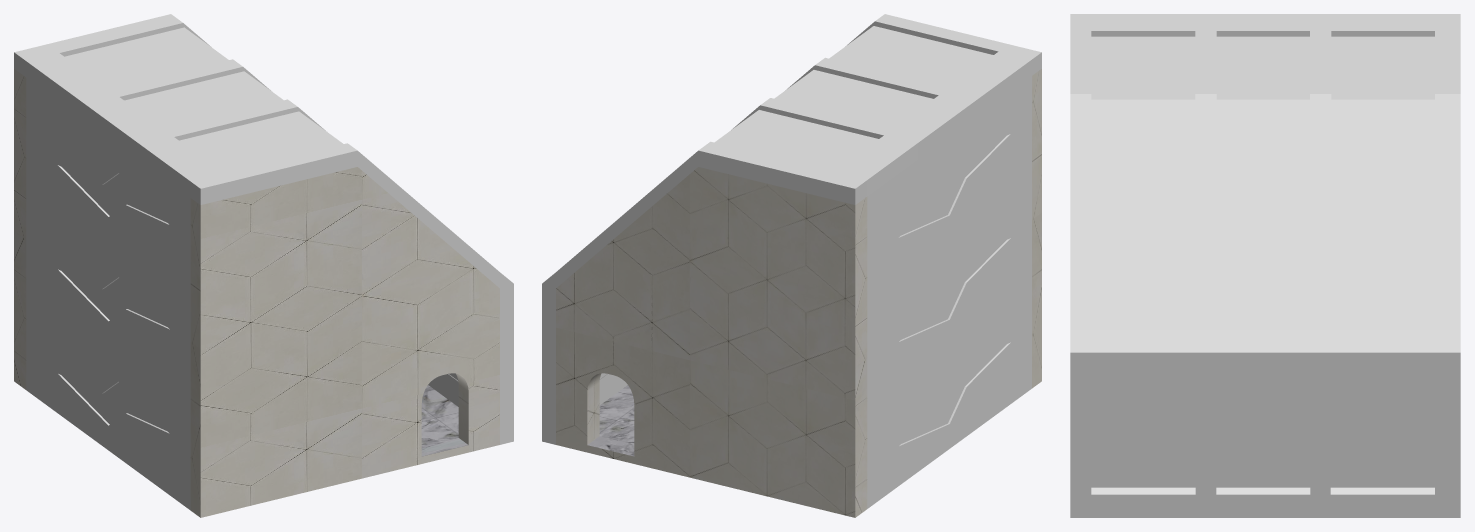
The model's file is Building 4.fbx.
3 renders of one model, left to right at view 1: azimuth 30°, elevation 25°; view 2: azimuth 150°, elevation 25°; view 3: azimuth 270°, elevation 25°, orthographic. The views are drawn at different scales.
Visible parts, largest first — view 1: Cube.009, Cube.007, Cube.006, Cube.020, Cube.022, Cube.012, Cube.018, Cube.005; view 2: Cube.012, Cube.007, Cube.006, Cube.020, Cube.022, Cube.009, Cube.018, Cube.005; view 3: Cube.020, Cube.006, Cube.018, Cube.021.
Boxes of the visible parts, box(x1,y1,x2,y2) form: Cube.009: box(190, 167, 499, 517); Cube.007: box(26, 78, 190, 510); Cube.006: box(14, 14, 499, 287); Cube.020: box(65, 27, 343, 173); Cube.022: box(62, 167, 167, 430); Cube.012: box(14, 69, 26, 389); Cube.018: box(428, 272, 513, 444); Cube.005: box(421, 385, 458, 446); Cube.012: box(556, 167, 867, 517); Cube.007: box(867, 76, 1031, 508); Cube.006: box(556, 14, 1041, 287); Cube.020: box(714, 26, 993, 171); Cube.022: box(901, 136, 1006, 443); Cube.009: box(1032, 69, 1041, 388); Cube.018: box(542, 272, 627, 444); Cube.005: box(599, 385, 634, 444); Cube.020: box(1091, 36, 1434, 311); Cube.006: box(1070, 14, 1460, 330); Cube.018: box(1070, 330, 1460, 517); Cube.021: box(1091, 371, 1434, 487).
Bounding box in the file's own units: 8.8 × 8.84 × 9.08.
